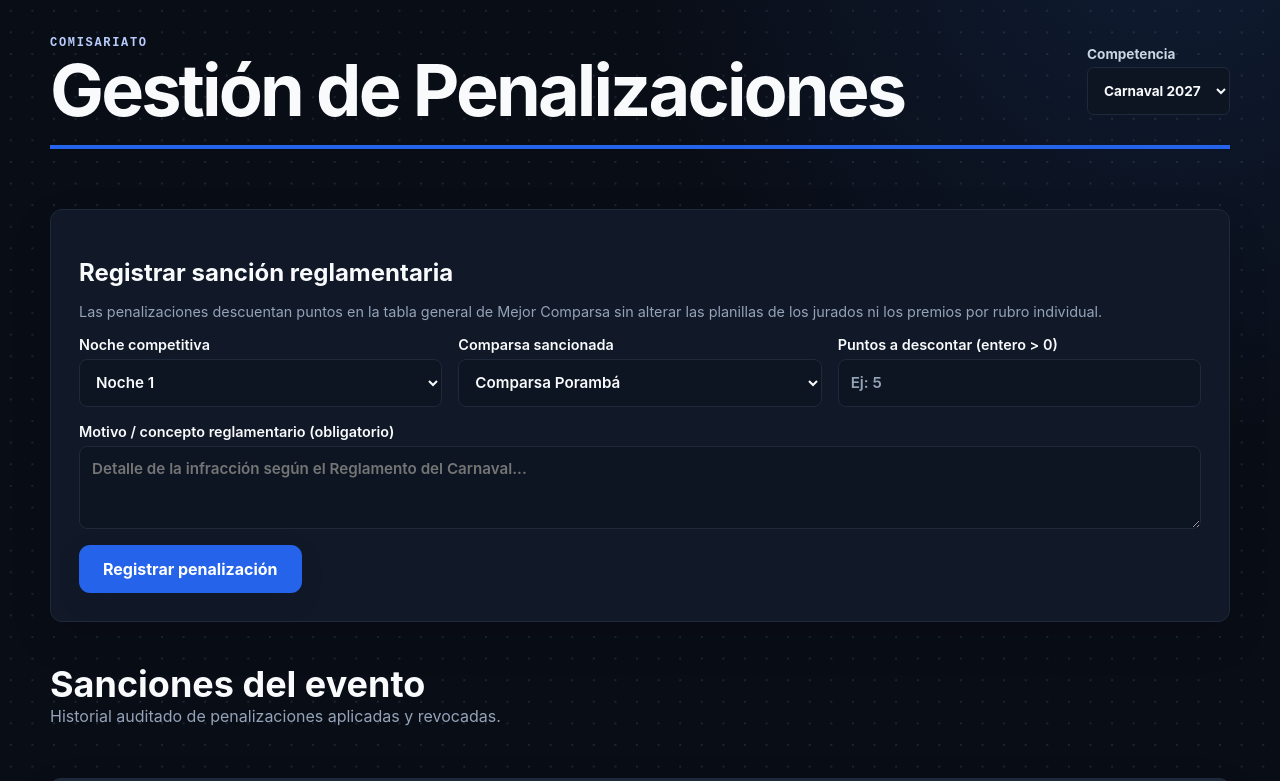
AdminPenaltiesPage › maneja 409 RESULTS_ALREADY_RELEASED de forma legible al intentar registrar
Expected: the heading "Registrar sanción reglamentaria" is shown, [79,258,453,287]
Type "2" into the number field labelled "Puntos a descontar (entero > 0)".
click(1019, 383); type("2")  # box [838,359,1201,407]
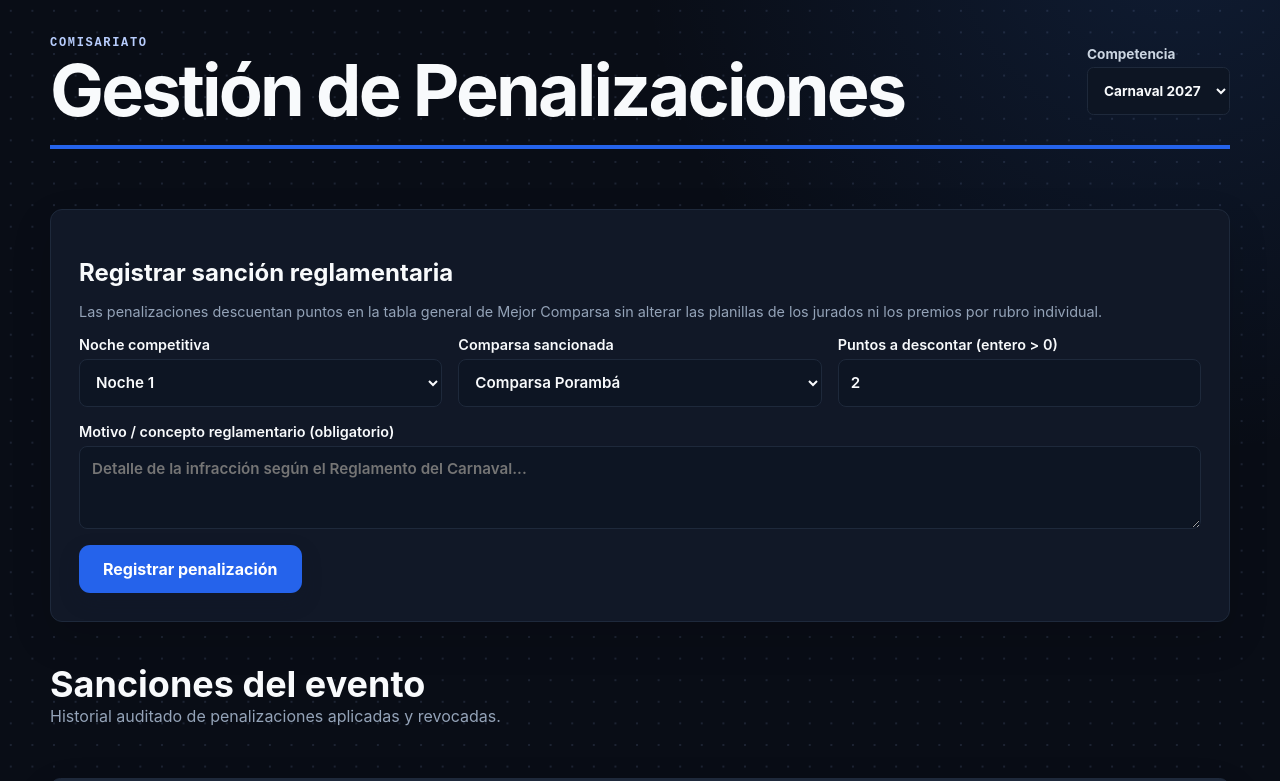
Type "Infracción" into the text box labelled "Motivo / concepto reglamentario (obligatorio)".
click(640, 488); type("Infracción")  # box [79,446,1201,529]
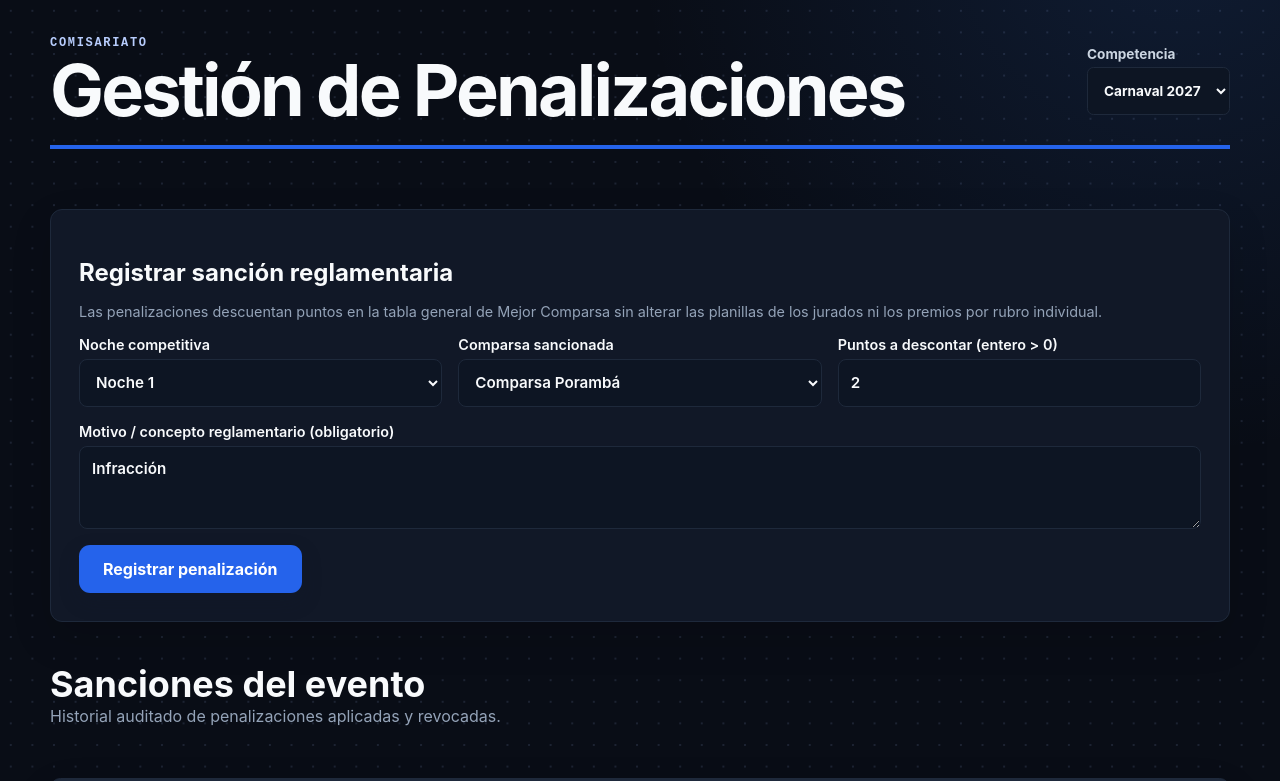
Click the button "Registrar penalización".
click(190, 569)  # box [79,545,302,593]
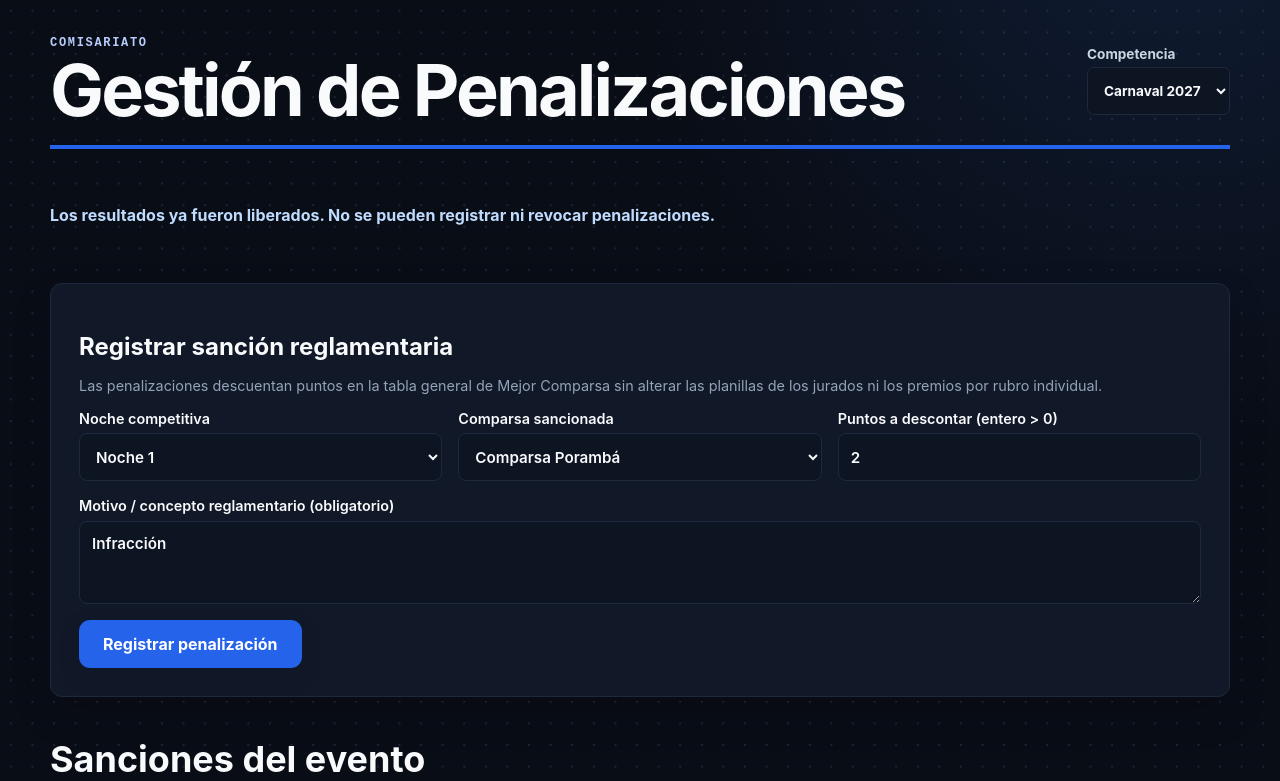
Expected: the text "Los resultados ya fueron liberados. No se pueden registrar ni revocar penalizaciones" is shown, [50,205,715,225]
